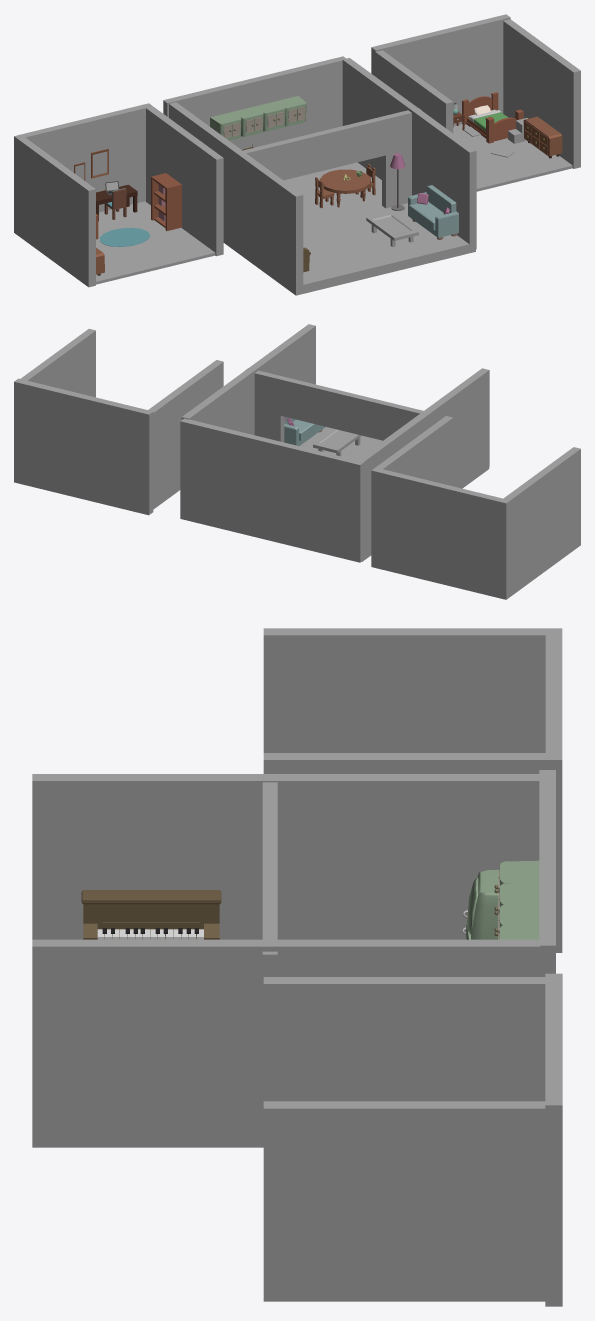
The model's file is Steve andbrad.fbx.
The picture shows the model from 3 angles, top to bottom: view 1: azimuth 30°, elevation 25°; view 2: azimuth 150°, elevation 25°; view 3: azimuth 270°, elevation 25°; orthographic projection. The views are drawn at different scales.
Parts seen in each view (by area): view 1: pCube1, pCube2, pCube8, pCube3, pCube5, pCube4, pCube12, pCube11, pCube7, pCube9, pCube6, pCube10 (+14 smaller); view 2: pCube4, pCube12, pCube9, pCube8, pCube5, pCube2, pCube3, pCube13, pCube7, pCube11, pCube1, pasted__pCube86 (+1 smaller); view 3: pCube2, pCube3, pCube11, pCube8, pCube13, pCube7, pasted__pCube79, pCube12, pCube4, pCube5, pCube9, pasted__polySurface12 (+4 smaller).
Boxes of the visible parts, x1,y1,x2,y2 form: pCube1: [223, 162, 475, 295]; pCube2: [169, 102, 303, 292]; pCube8: [14, 134, 95, 287]; pCube3: [342, 58, 476, 249]; pCube5: [243, 108, 421, 208]; pCube4: [163, 56, 345, 149]; pCube12: [371, 14, 510, 125]; pCube11: [503, 19, 580, 168]; pCube7: [146, 103, 223, 256]; pCube9: [17, 104, 149, 212]; pCube6: [96, 201, 215, 284]; pCube10: [453, 124, 572, 191]; pCube4: [180, 418, 364, 562]; pCube12: [14, 378, 153, 515]; pCube9: [374, 468, 503, 598]; pCube8: [499, 447, 580, 599]; pCube5: [245, 368, 423, 442]; pCube2: [357, 368, 489, 557]; pCube3: [181, 324, 315, 435]; pCube13: [148, 360, 223, 512]; pCube7: [371, 416, 453, 567]; pCube11: [20, 329, 95, 397]; pCube1: [300, 427, 489, 561]; pasted__pCube86: [284, 417, 325, 446]; pCube2: [32, 774, 539, 939]; pCube3: [32, 939, 540, 1143]; pCube11: [263, 1101, 545, 1301]; pCube8: [263, 628, 562, 752]; pCube13: [263, 977, 545, 1101]; pCube7: [263, 753, 562, 952]; pasted__pCube79: [81, 890, 221, 939]; pCube12: [545, 973, 562, 1306]; pCube4: [539, 770, 555, 976]; pCube5: [262, 782, 277, 1136]; pCube9: [545, 631, 562, 755]; pasted__polySurface12: [462, 869, 499, 939].
Size of the model in its own units: 17.98 by 3.52 by 8.39.
